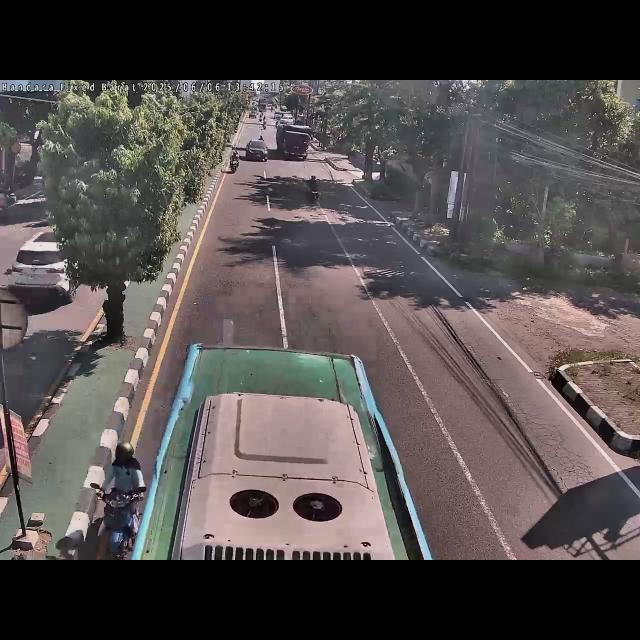Bis: (127, 344, 436, 560)
Mobil: (244, 136, 272, 162)
Motor: (87, 436, 151, 560), (302, 171, 324, 211), (227, 147, 240, 179)
Truk: (273, 121, 315, 163)
